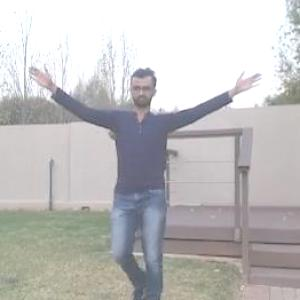takeoff: (32, 66, 265, 299)
